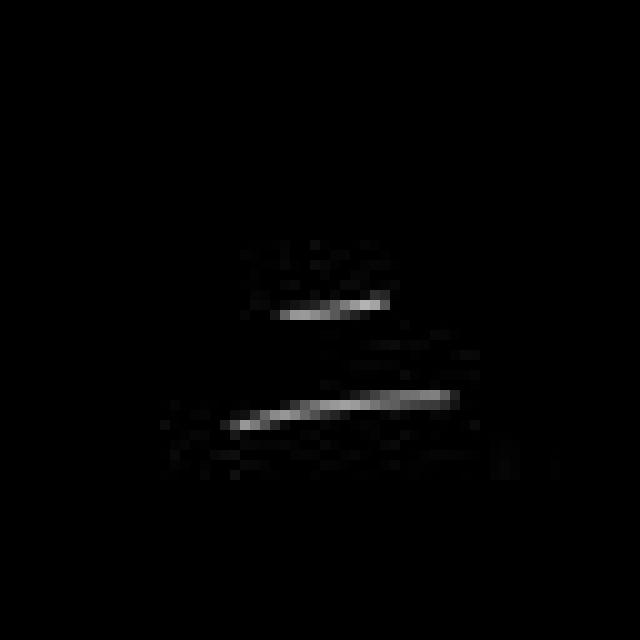2 -two-: (216, 280, 470, 451)
